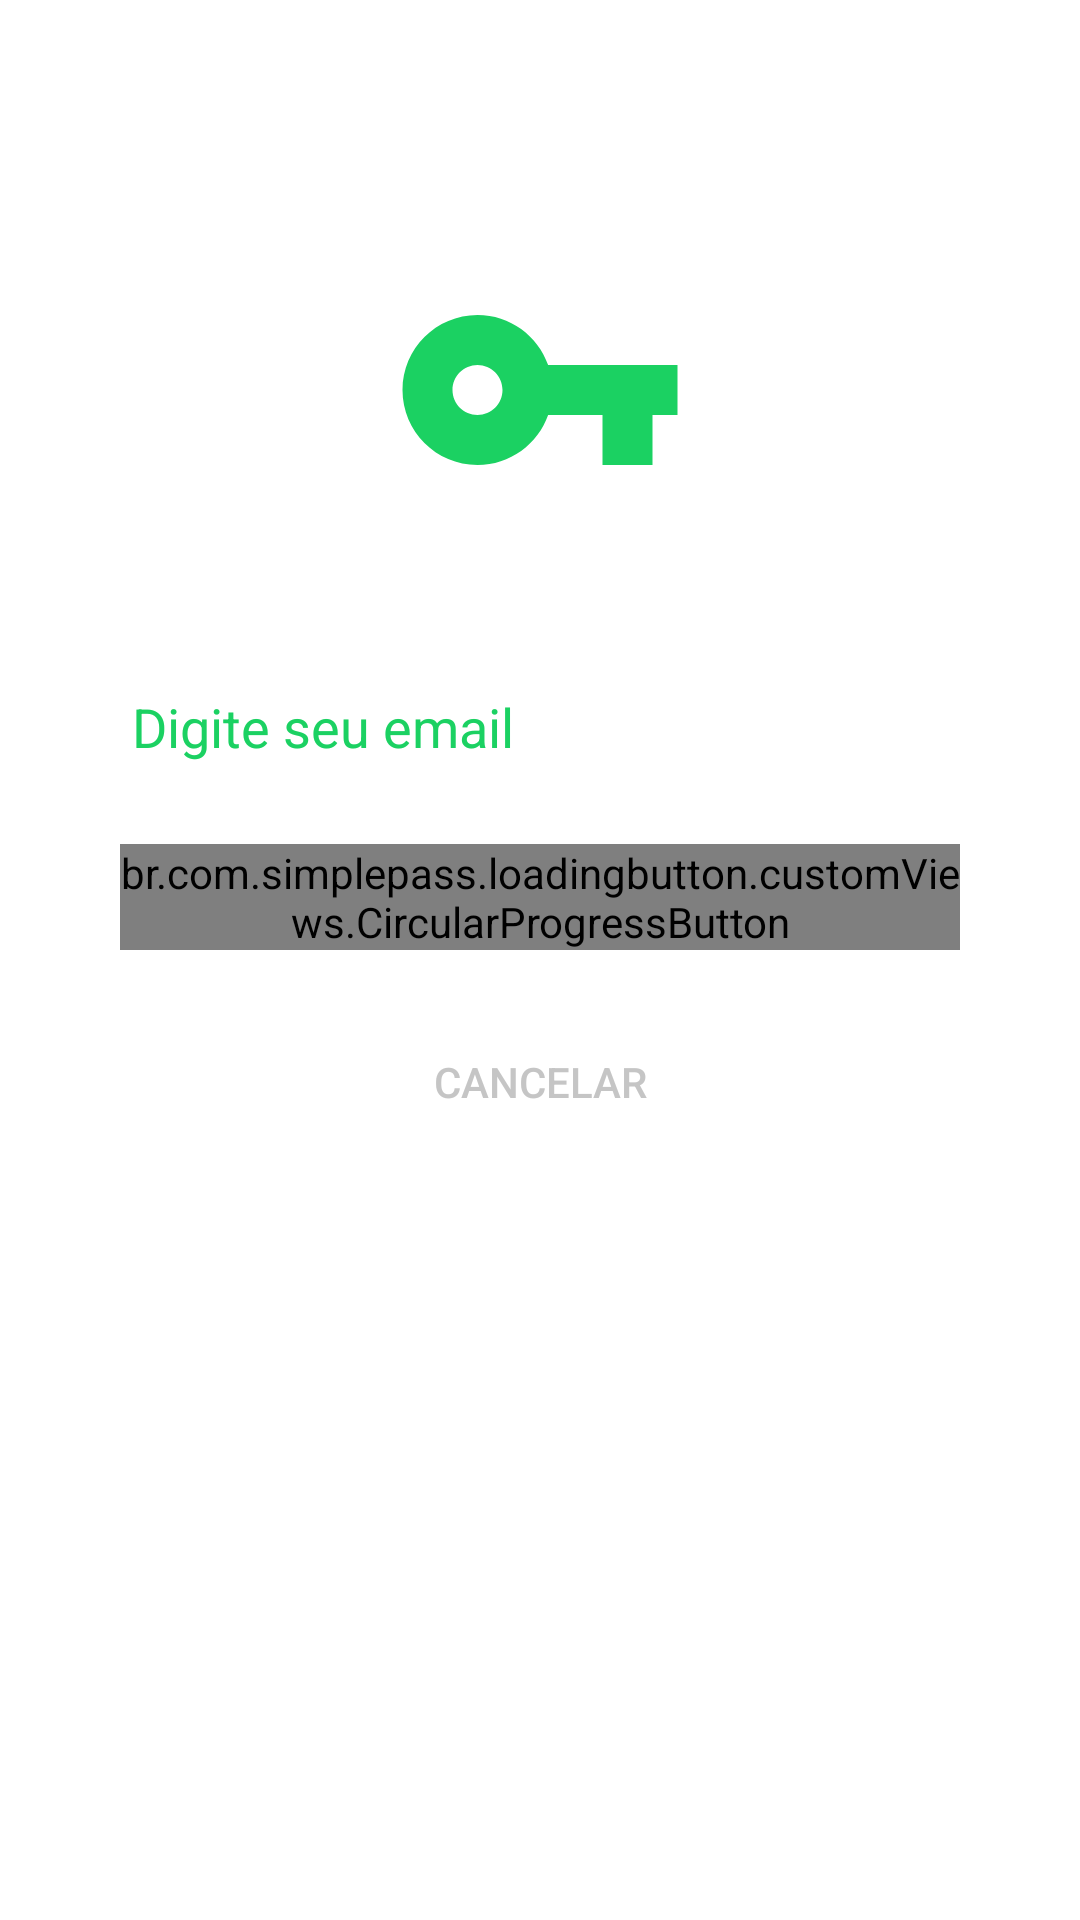

Screen size 1080*1920. Icon name, then its center in pixels as (x,y):
key: (540,390)
